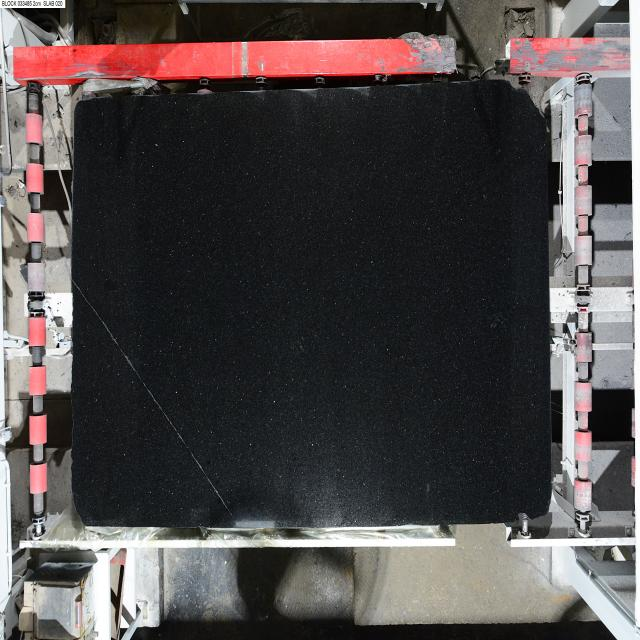chapa: (71, 81, 551, 529)
veio: (510, 506, 534, 530)
